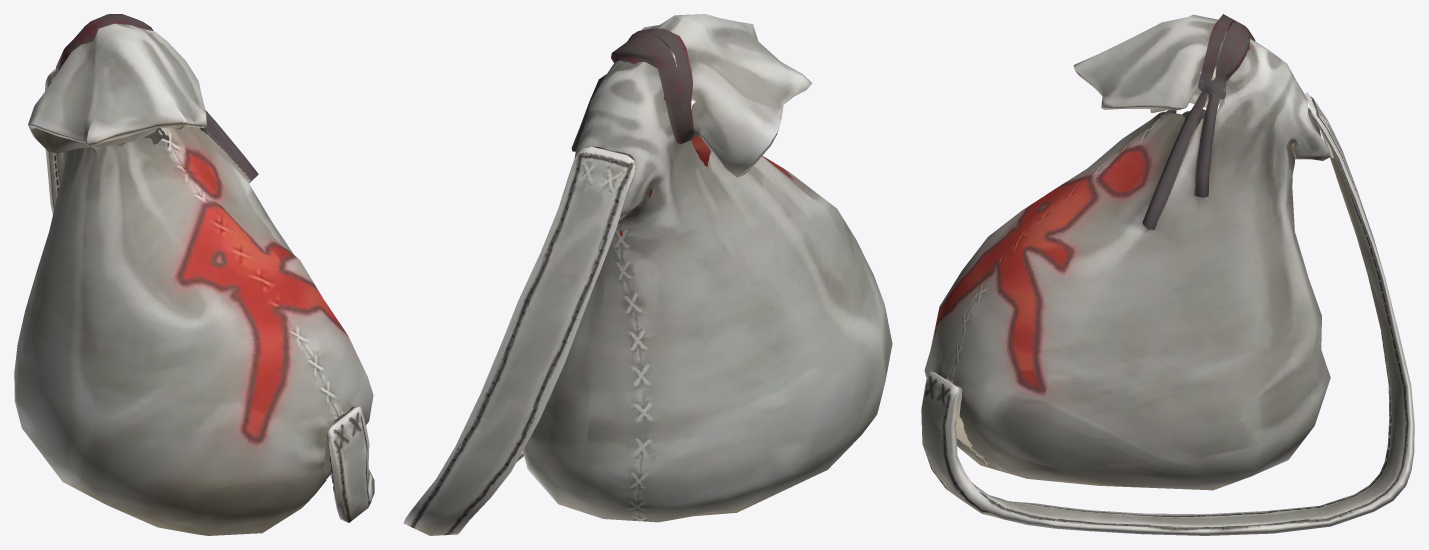
3 views of the same model, side by side, from view 1: azimuth 30°, elevation 25°; view 2: azimuth 150°, elevation 25°; view 3: azimuth 270°, elevation 25° (orthographic). The views are drawn at different scales.
Parts seen in each view (by area): view 1: SM_Agility_Napsack_01_LOD0; view 2: SM_Agility_Napsack_01_LOD0; view 3: SM_Agility_Napsack_01_LOD0.
Boxes of the visible parts, bbox=[...] form: SM_Agility_Napsack_01_LOD0: bbox=[14, 14, 374, 535]; SM_Agility_Napsack_01_LOD0: bbox=[403, 14, 892, 535]; SM_Agility_Napsack_01_LOD0: bbox=[921, 14, 1414, 535].
Bounding box in the file's own units: 0.2648 × 0.3751 × 0.3838.
Materials: 1 (1 with a texture image).
